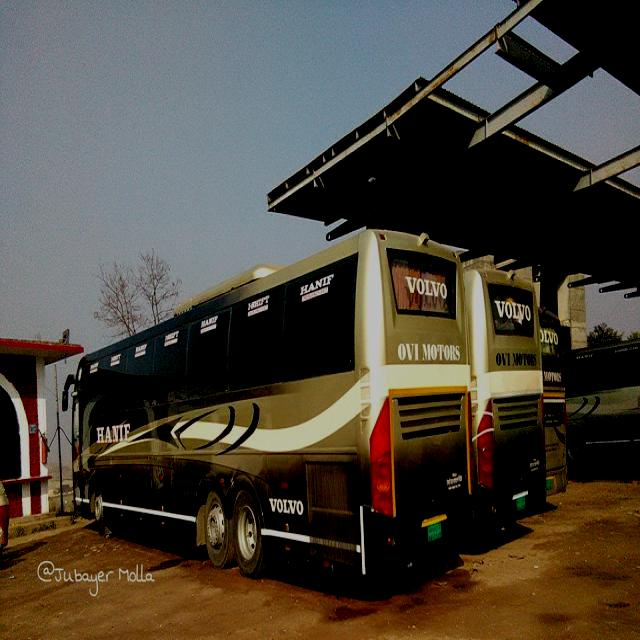bus: (62, 227, 476, 580)
